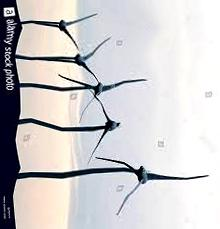faulty: (75, 103, 132, 154)
